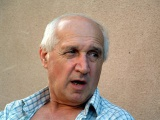male: (44, 19, 105, 109)
